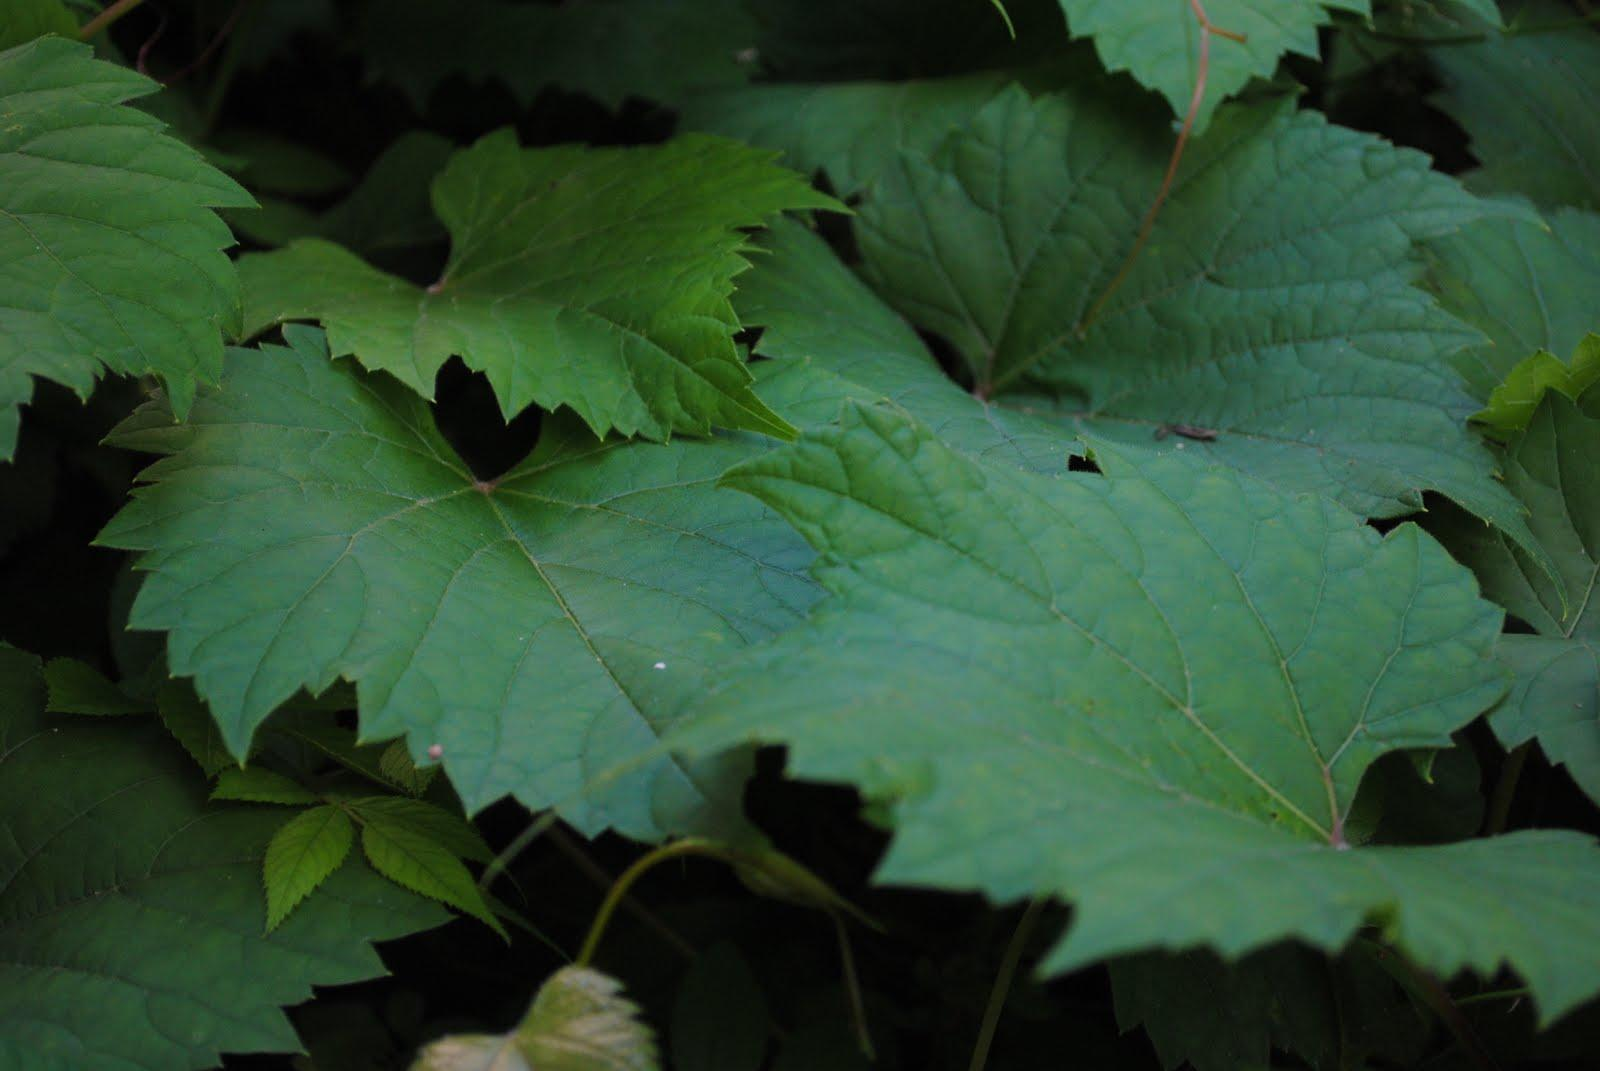grape leaf black rot: (736, 411, 1521, 856), (145, 343, 783, 859), (220, 124, 805, 446)
